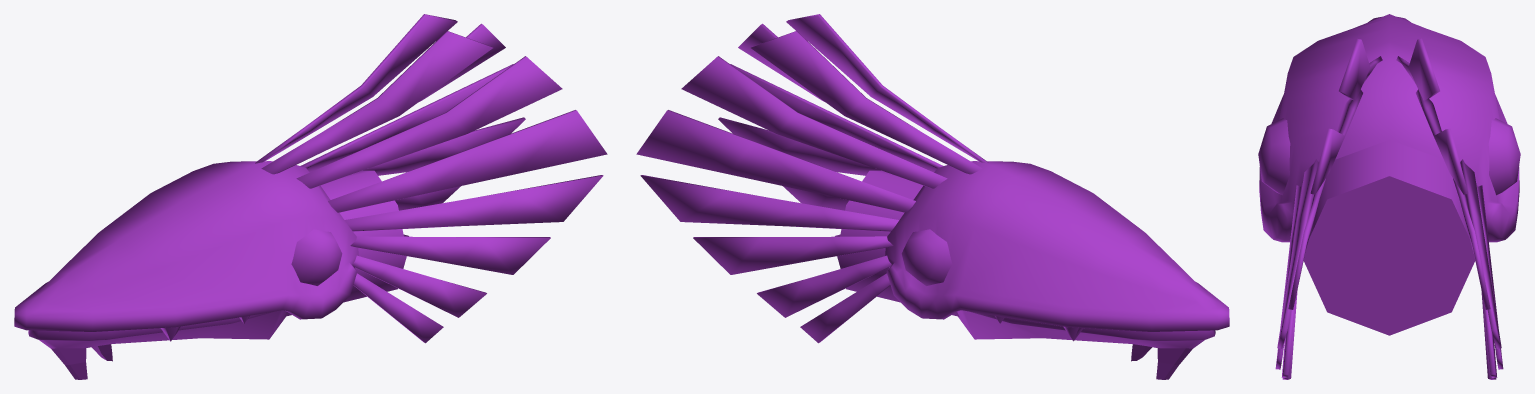
The model's file is BossHead_Model.FBX.
The picture shows the model from 3 angles, left to right: view 1: azimuth 30°, elevation 25°; view 2: azimuth 150°, elevation 25°; view 3: azimuth 270°, elevation 25°; orthographic projection. The views are drawn at different scales.
Parts seen in each view (by area): view 1: tete; view 2: tete; view 3: tete.
Part boxes in pixels (box(x1,y1,x2,y2)): tete: box(14, 14, 607, 379); tete: box(636, 14, 1229, 379); tete: box(1258, 14, 1520, 379).
Size of the model in its own units: 286 by 137 by 87.25.
